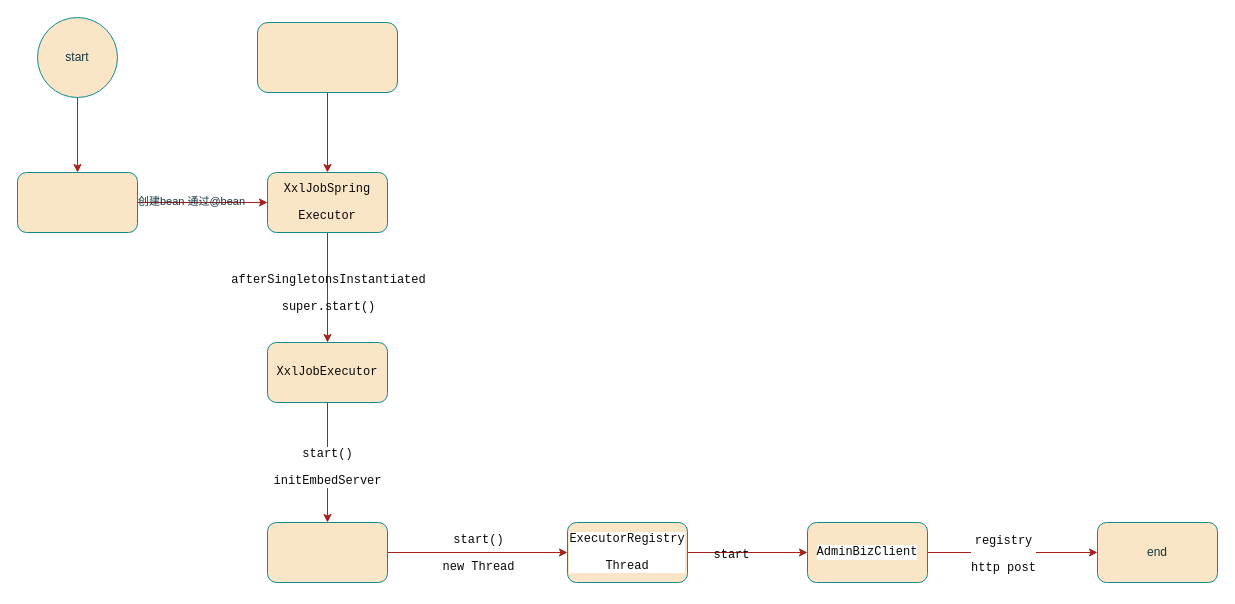
Some shapes in this 1235 by 604 pixel diagram are drawn without their labels. Here are the shapes that lost their labels. From the top down, the centre of each, then its label:
point (327, 57): SmartInitializing Singleton
point (77, 202): XxlJobConfig
point (327, 552): EmbedServer
